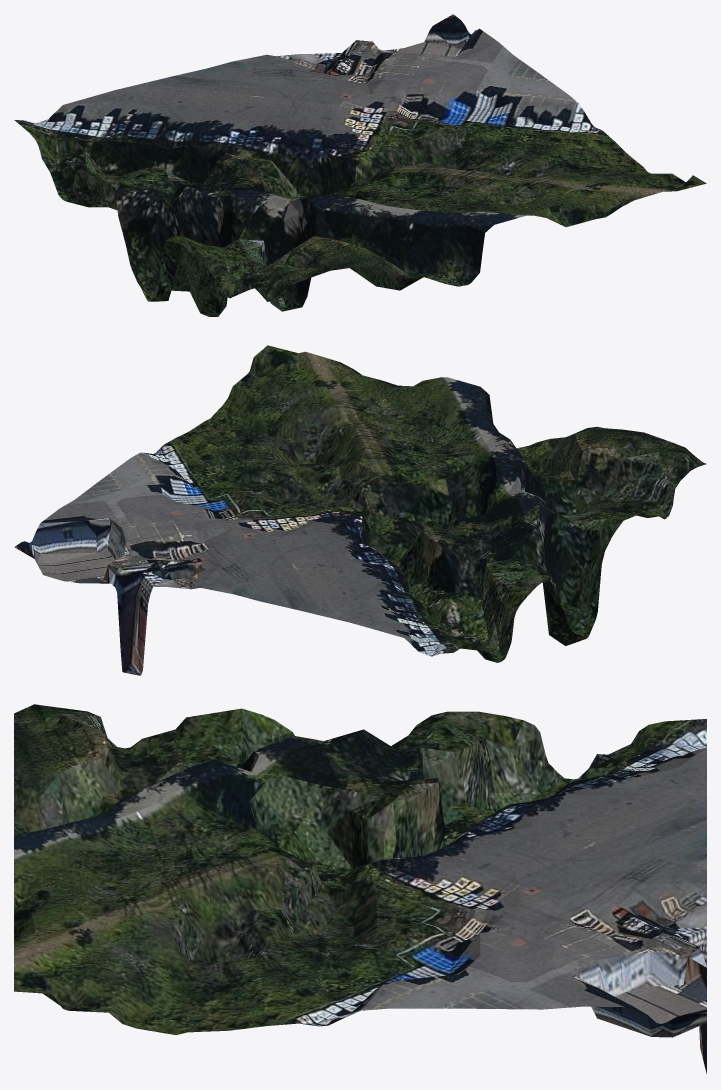
File: map_15_8181_13780.dae
The picture shows the model from 3 angles, top to bottom: view 1: azimuth 30°, elevation 25°; view 2: azimuth 150°, elevation 25°; view 3: azimuth 270°, elevation 25°; orthographic projection. The views are drawn at different scales.
Visible parts, largest first — view 1: Ter0; view 2: Ter0; view 3: Ter0.
Part boxes in pixels (x1,y1,x2,y2): Ter0: [14, 14, 706, 316]; Ter0: [14, 345, 706, 675]; Ter0: [14, 704, 706, 1073].
Bounding box in the file's own units: 63.87 × 63.88 × 17.6.
Materials: 3 (3 with a texture image).
